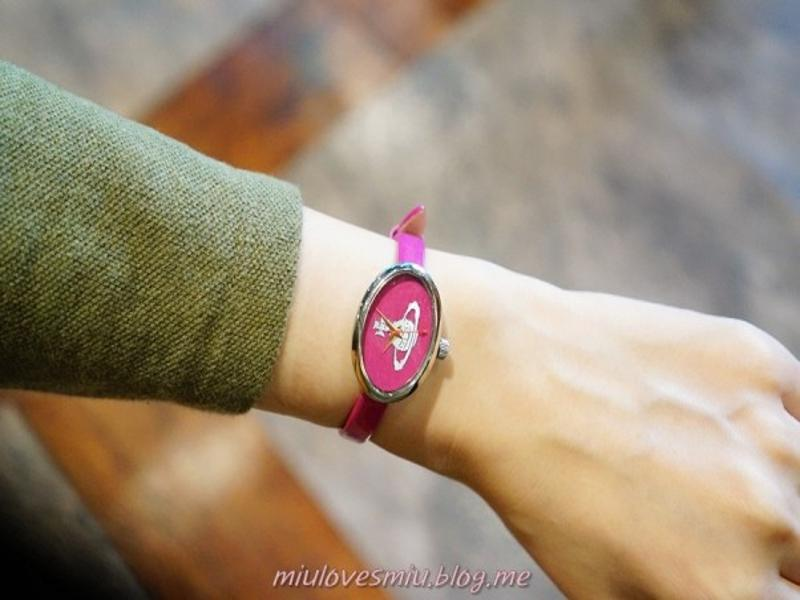watch: (337, 204, 450, 445)
